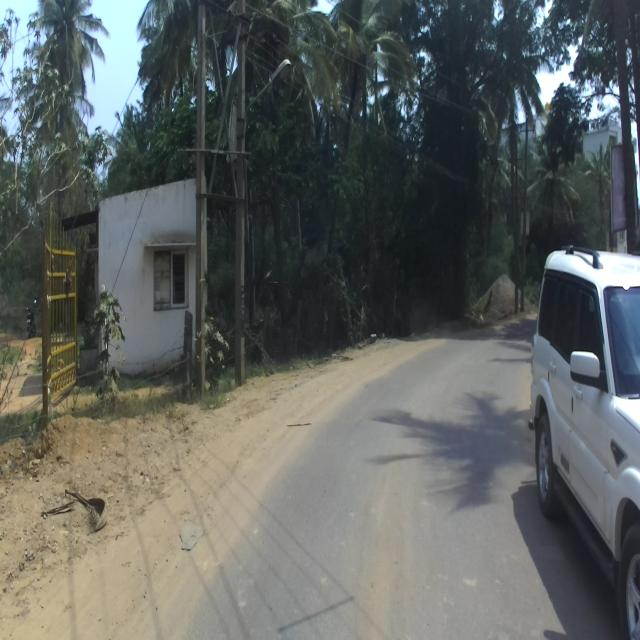car ahead at: (531, 237, 639, 640)
electric pole ahead at: (190, 0, 216, 401)
gate ahead at: (41, 206, 82, 428)
plant ahead at: (87, 287, 127, 406)
